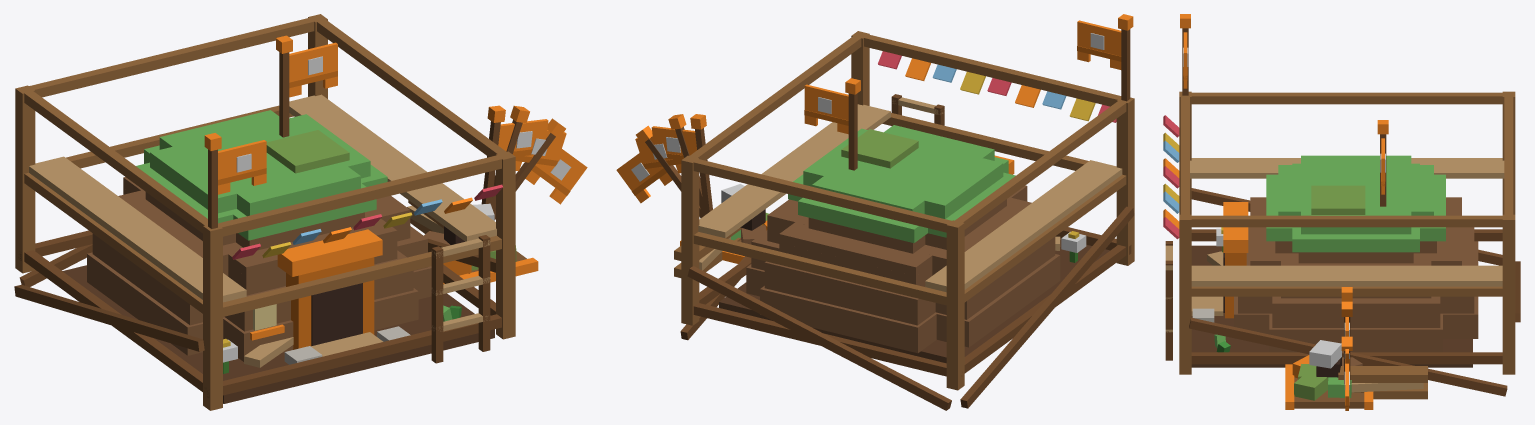
File: bumblebee-home.glb
The picture shows the model from 3 angles, left to right: view 1: azimuth 30°, elevation 25°; view 2: azimuth 150°, elevation 25°; view 3: azimuth 270°, elevation 25°; orthographic projection. The views are drawn at different scales.
Visible parts, largest first — view 1: scaffold-mesh, built-mesh, dismantle-75-mesh, dismantle-50-mesh, scaffold-banner, banner, dismantle-25-banner, dismantle-25-mesh, flag-pole, dismantle-50-banner, dismantle-75-banner, scaffold-flag-pole (+3 smaller); view 2: scaffold-mesh, built-mesh, dismantle-75-mesh, dismantle-50-mesh, banner, scaffold-banner, dismantle-25-banner, dismantle-25-mesh, flag-pole, dismantle-75-banner, scaffold-flag-pole, dismantle-50-banner (+3 smaller); view 3: scaffold-mesh, built-mesh, dismantle-50-mesh, dismantle-75-mesh, dismantle-25-mesh, flag-pole, scaffold-flag-pole.
Boxes of the visible parts, box(x1,y1,x2,y2) form: scaffold-mesh: box(14, 14, 515, 410); built-mesh: box(123, 110, 459, 403); dismantle-75-mesh: box(87, 188, 538, 373); dismantle-50-mesh: box(62, 244, 537, 380); scaffold-banner: box(218, 140, 266, 194); banner: box(289, 42, 337, 97); dismantle-25-banner: box(525, 149, 587, 204); dismantle-25-mesh: box(192, 203, 538, 365); flag-pole: box(276, 35, 292, 137); dismantle-50-banner: box(513, 128, 566, 175); dismantle-75-banner: box(498, 119, 548, 158); scaffold-flag-pole: box(204, 133, 221, 228); scaffold-mesh: box(674, 31, 1134, 410); built-mesh: box(760, 125, 1079, 353); dismantle-75-mesh: box(680, 195, 1085, 363); dismantle-50-mesh: box(680, 223, 1109, 360); banner: box(804, 84, 848, 134); scaffold-banner: box(1077, 20, 1121, 69); dismantle-25-banner: box(616, 147, 672, 203); dismantle-25-mesh: box(680, 184, 1077, 362); flag-pole: box(845, 78, 860, 170); dismantle-75-banner: box(651, 126, 696, 161); scaffold-flag-pole: box(1118, 14, 1133, 101); dismantle-50-banner: box(635, 134, 683, 177); scaffold-mesh: box(1163, 91, 1520, 399); built-mesh: box(1214, 155, 1461, 352); dismantle-50-mesh: box(1191, 230, 1478, 409); dismantle-75-mesh: box(1192, 228, 1478, 409); dismantle-25-mesh: box(1207, 251, 1478, 408); flag-pole: box(1377, 120, 1388, 206); scaffold-flag-pole: box(1180, 14, 1190, 95).
Size of the model in its own units: 2.65 by 1.55 by 1.99.
